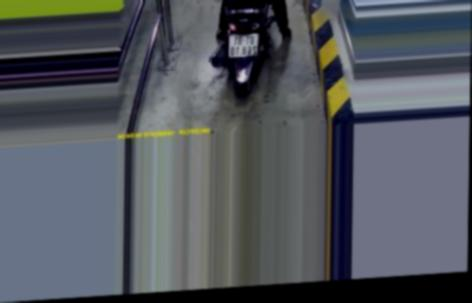License_Plate: (227, 32, 261, 61)
